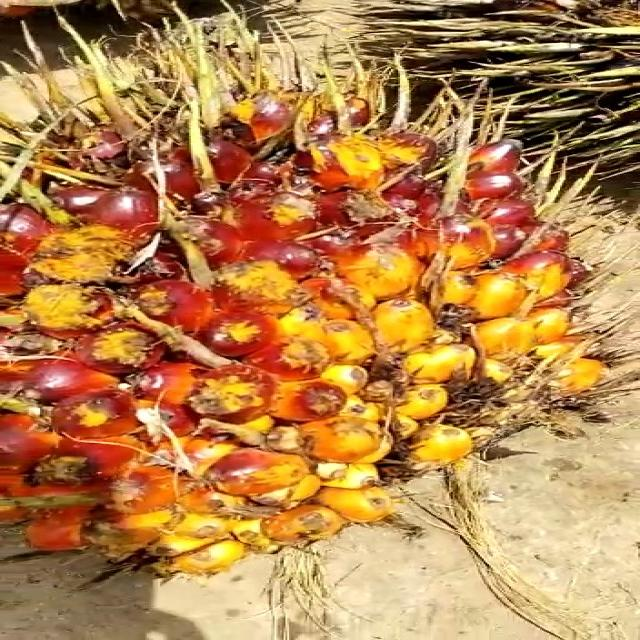palm oil: (0, 42, 640, 566)
